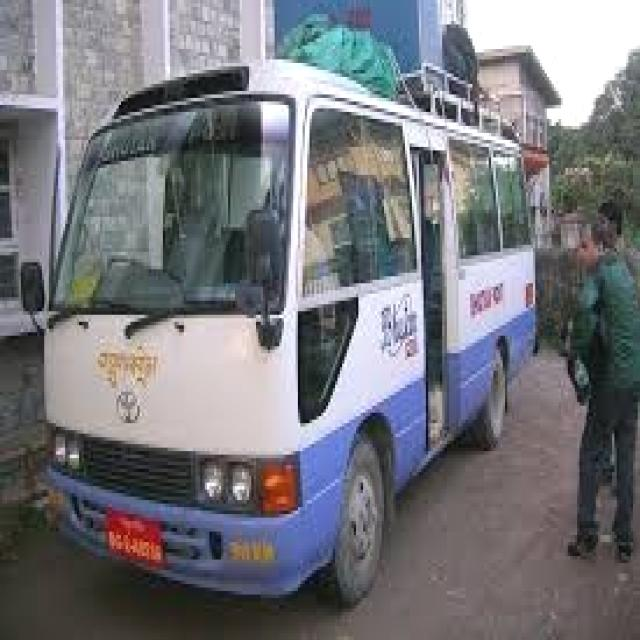bus: (21, 34, 548, 620)
